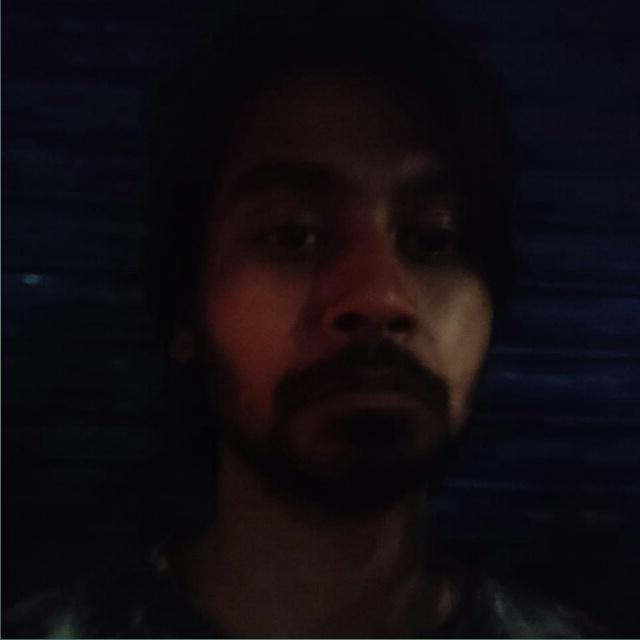Sad: (174, 43, 515, 525)
